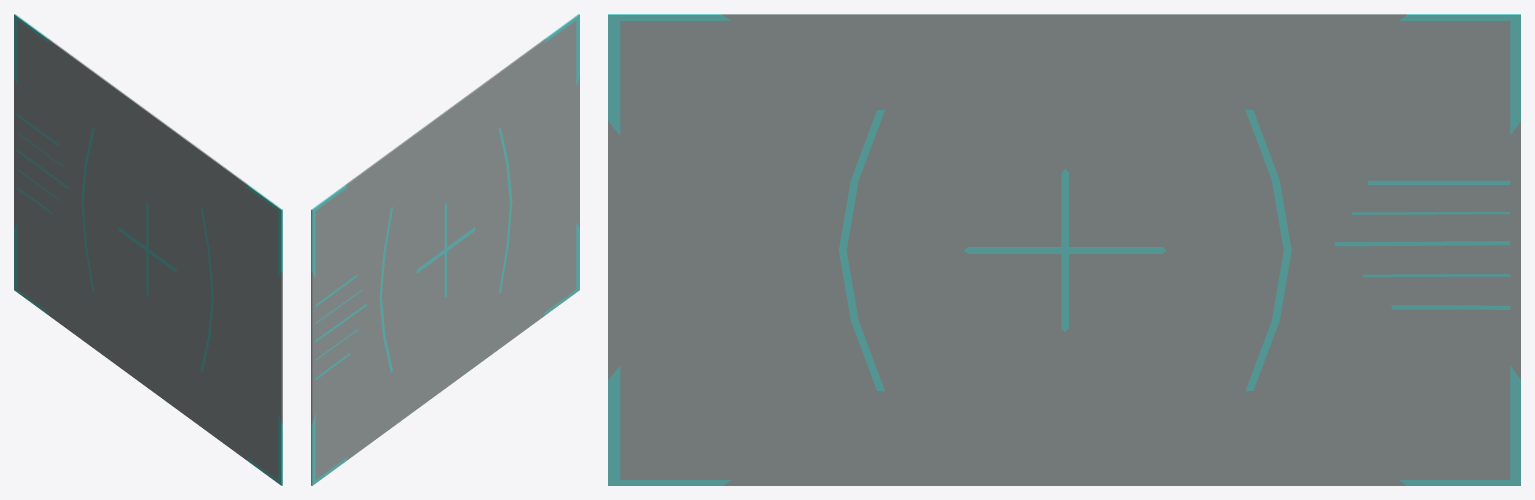
The model's file is screen2.fbx.
The picture shows the model from 3 angles, left to right: view 1: azimuth 30°, elevation 25°; view 2: azimuth 150°, elevation 25°; view 3: azimuth 270°, elevation 25°; orthographic projection. The views are drawn at different scales.
Visible parts, largest first — view 1: screen2; view 2: screen2; view 3: screen2.
Boxes of the visible parts, left/top/right/bottom form: screen2: left=14, top=14, right=282, bottom=485; screen2: left=311, top=14, right=579, bottom=485; screen2: left=608, top=14, right=1520, bottom=485.
Bounding box in the file's own units: 0.0108 × 3.78 × 2.15.
